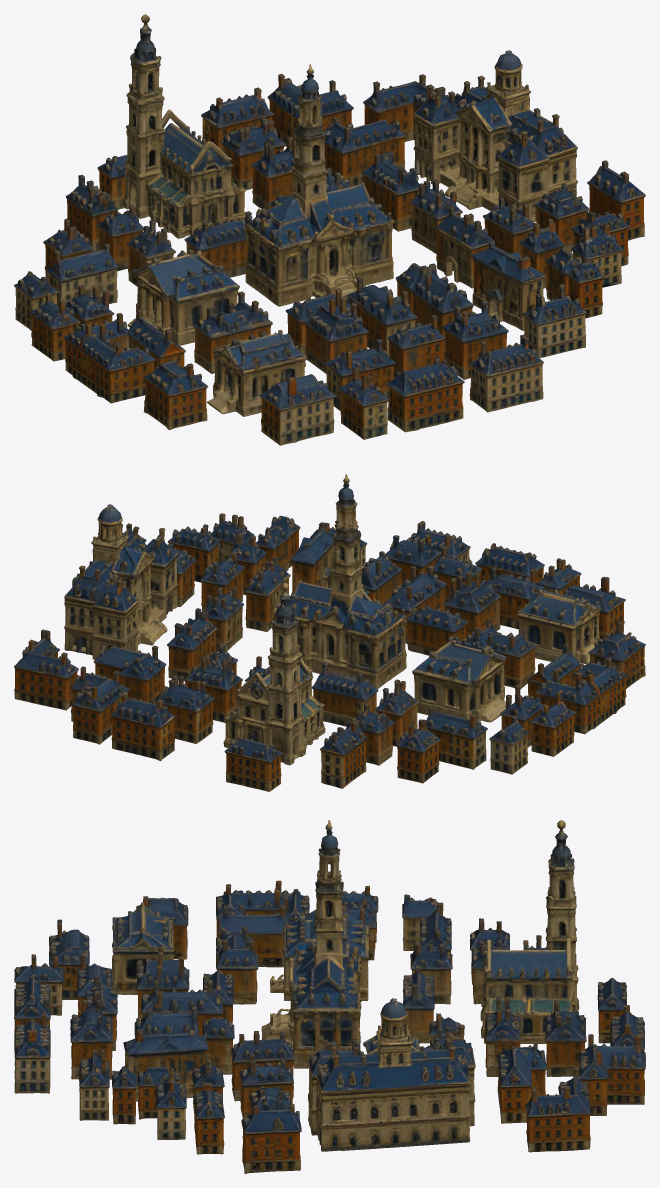
The model's file is Enlightenment City (Western).fbx.
The picture shows the model from 3 angles, top to bottom: view 1: azimuth 30°, elevation 25°; view 2: azimuth 150°, elevation 25°; view 3: azimuth 270°, elevation 25°; orthographic projection. The views are drawn at different scales.
Parts seen in each view (by area): view 1: tripo_node_8f40b77e; view 2: tripo_node_8f40b77e; view 3: tripo_node_8f40b77e.
Boxes of the visible parts, x1,y1,x2,y2 form: tripo_node_8f40b77e: (14, 14, 645, 445); tripo_node_8f40b77e: (14, 474, 645, 791); tripo_node_8f40b77e: (14, 820, 645, 1173).
Size of the model in its own units: 1 by 0.4133 by 0.9977.
